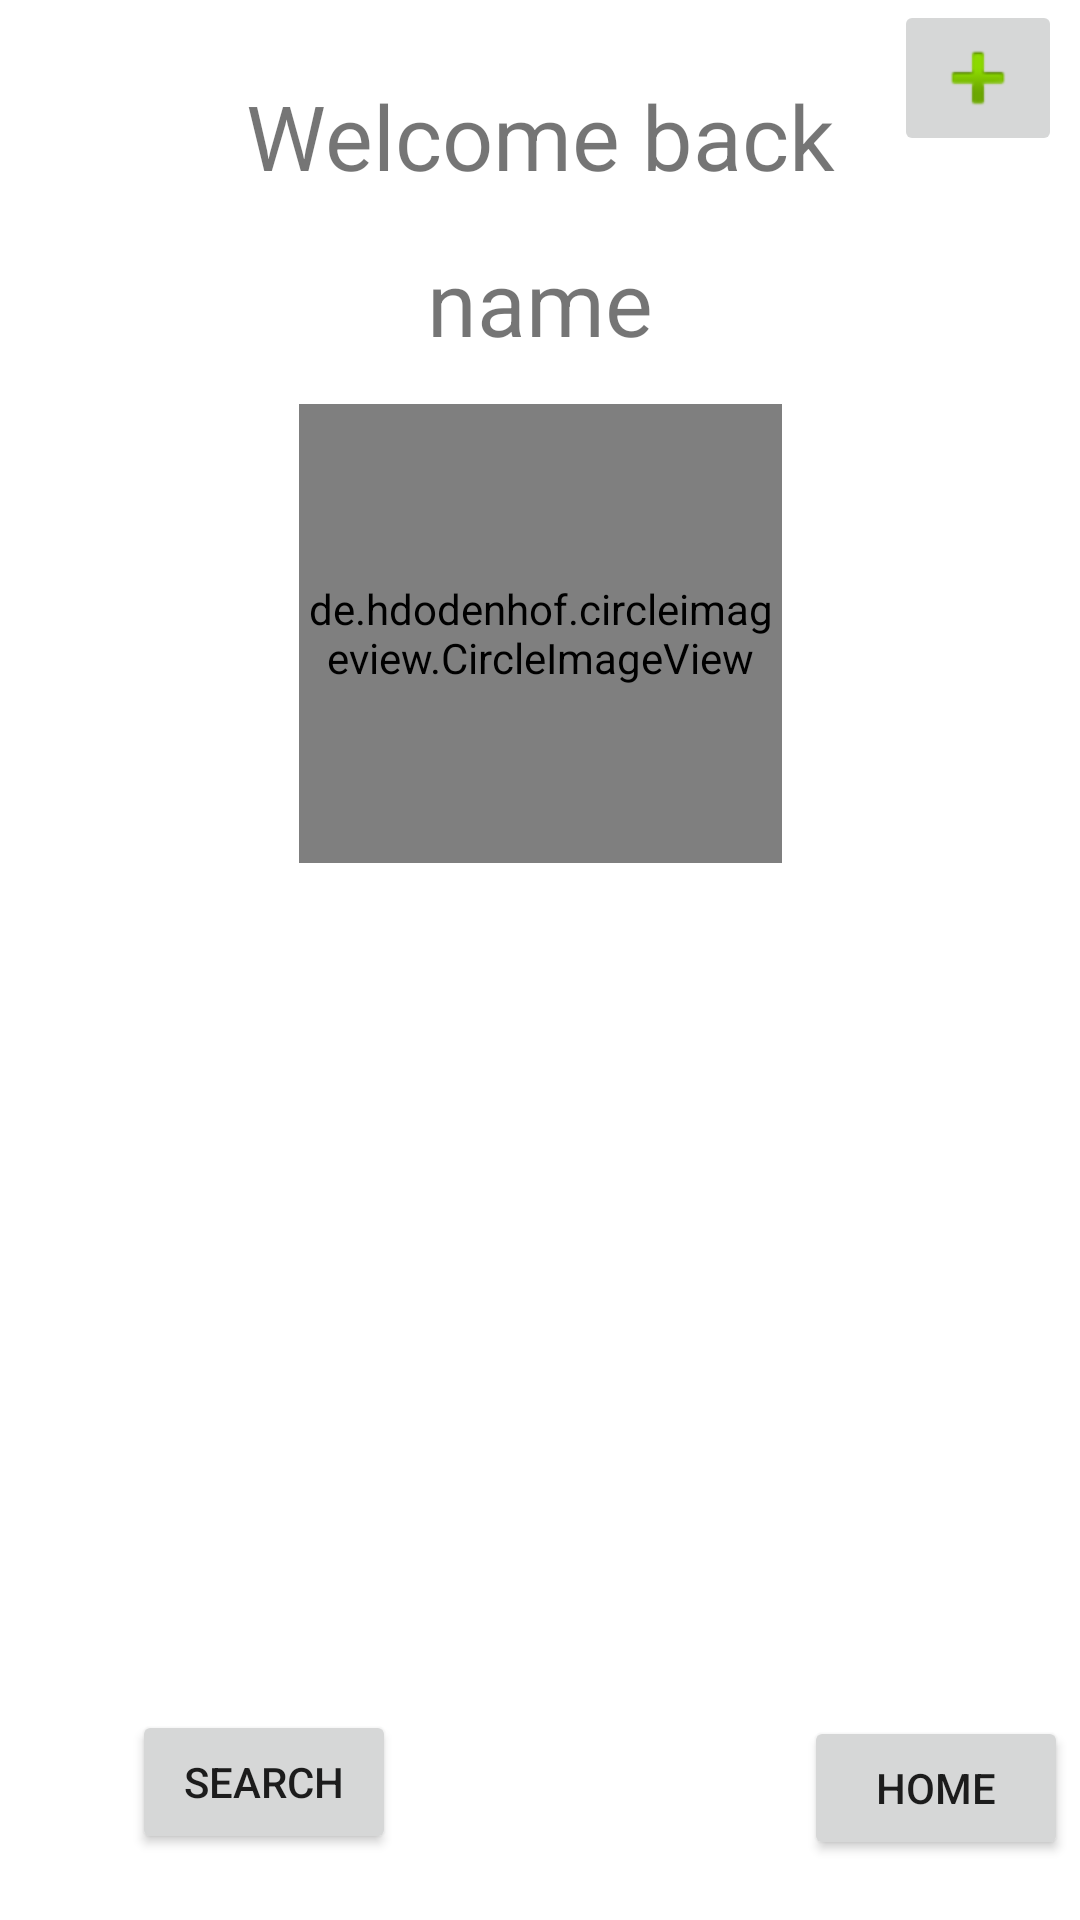

Named icons in this screenshot (1080w x 1920h) and their centers, (x,y):
add: (978,78)
